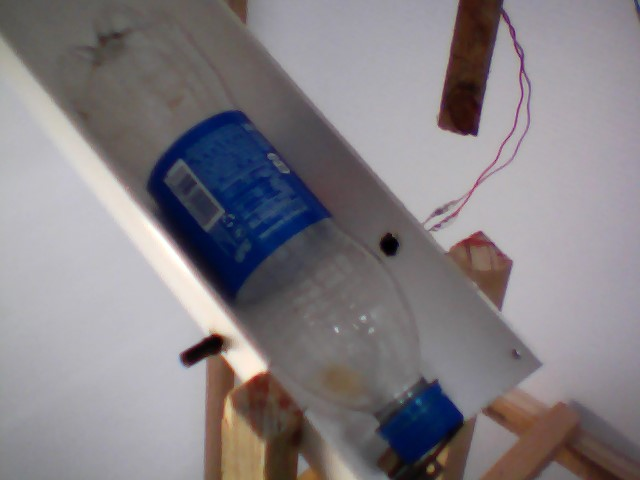plastico: (41, 1, 470, 474)
